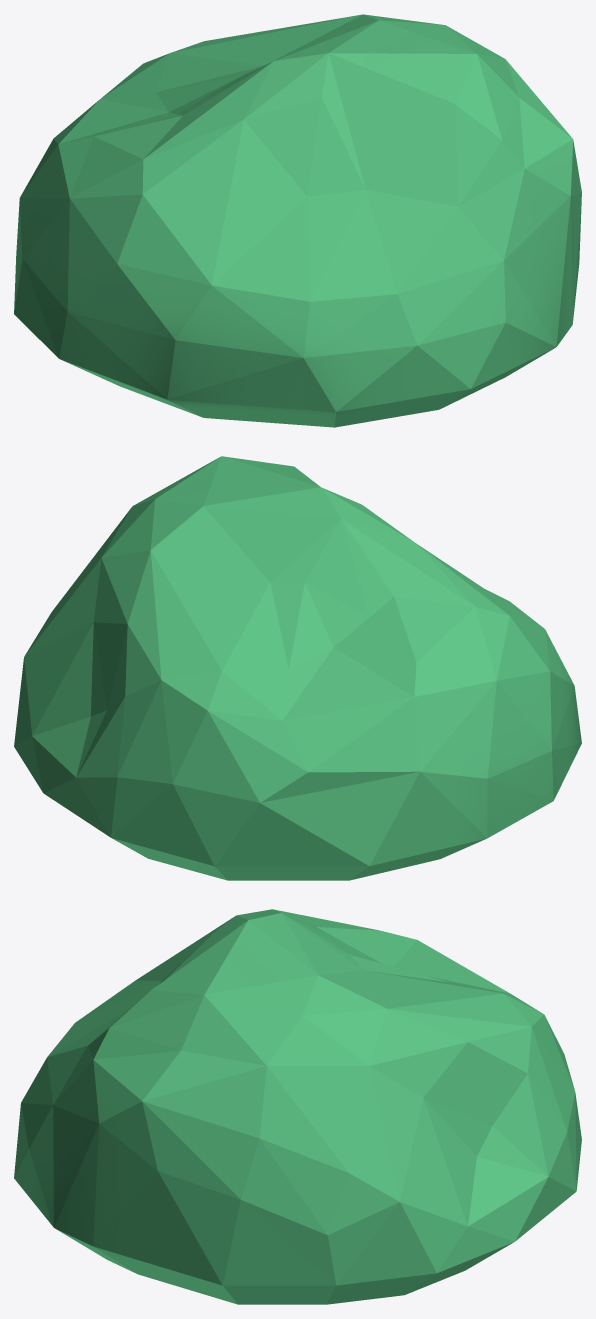
File: Bush.obj
3 views of the same model, one above another, from view 1: azimuth 30°, elevation 25°; view 2: azimuth 150°, elevation 25°; view 3: azimuth 270°, elevation 25° (orthographic). The views are drawn at different scales.
Parts seen in each view (by area): view 1: Sphere; view 2: Sphere; view 3: Sphere.
Boxes of the visible parts, x1,y1,x2,y2 form: Sphere: [14, 14, 581, 427]; Sphere: [14, 456, 581, 880]; Sphere: [14, 909, 581, 1304].
Bounding box in the file's own units: 3.12 × 1.8 × 3.12.
